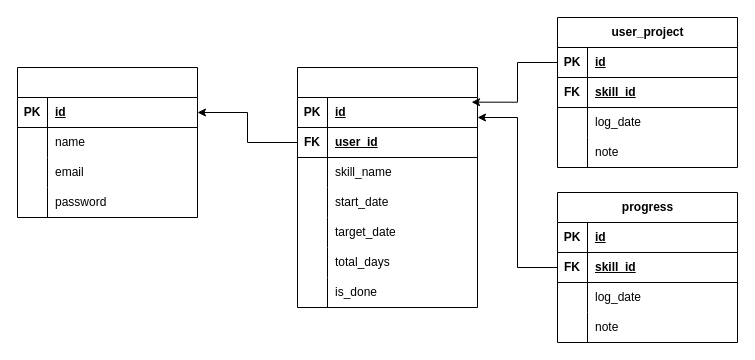
Some shapes in this 755 by 360 pixel diagram are drawn without their labels. The box of each missing label's shape, as (x1, y1, x2, y2) in pixels:
skills: (296, 66, 478, 308)
user: (16, 66, 198, 218)
